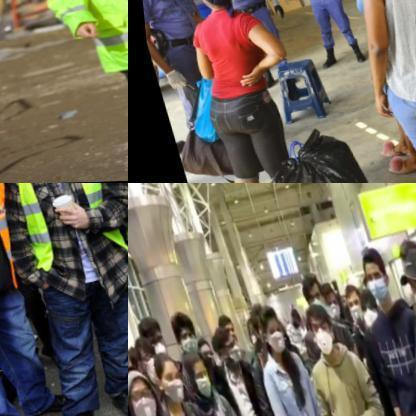vest: (0, 183, 127, 276), (14, 0, 127, 89), (62, 183, 127, 253), (211, 0, 262, 10)
